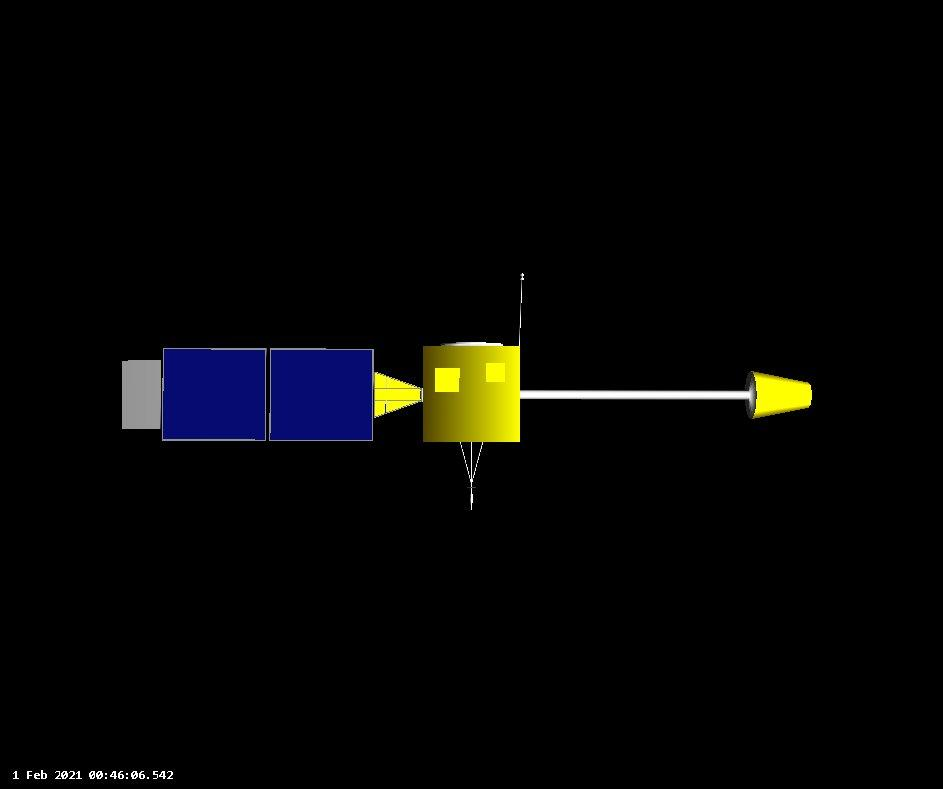antenna: (517, 364, 813, 424), (452, 438, 489, 517), (514, 271, 531, 353)
body: (418, 335, 525, 449)
solar: (117, 339, 426, 455)
